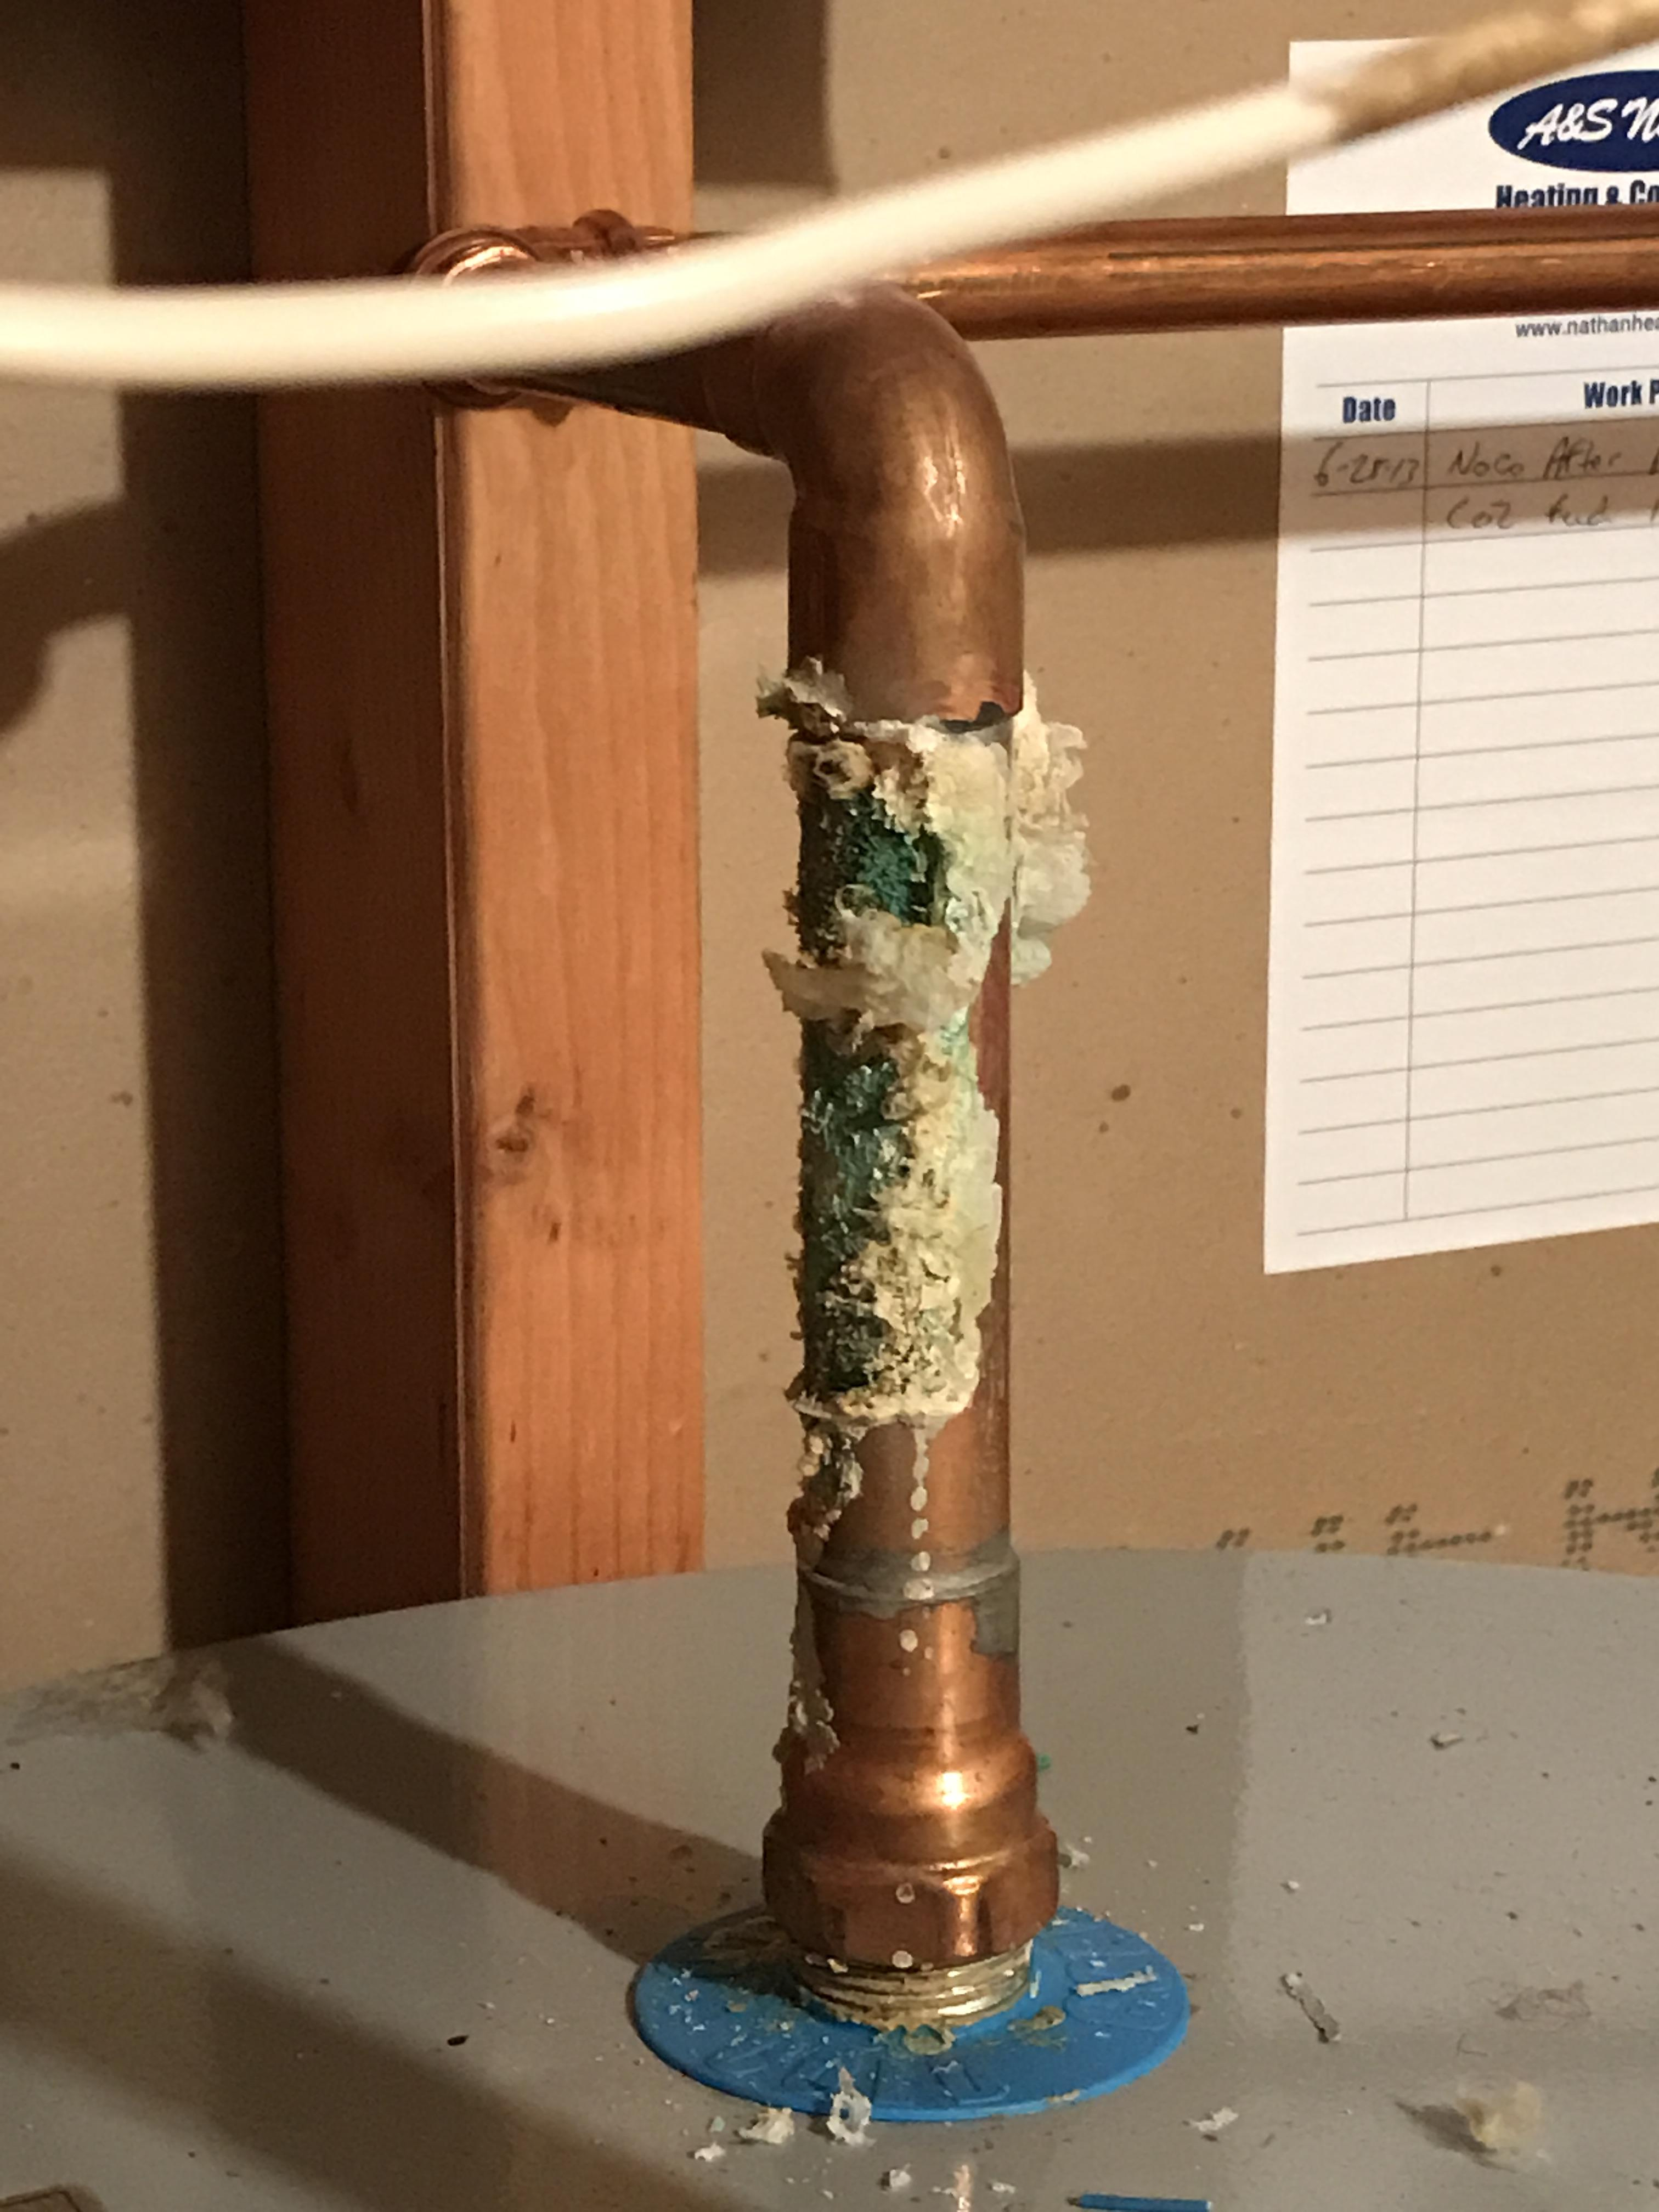Severe: (734, 632, 1107, 1529)
